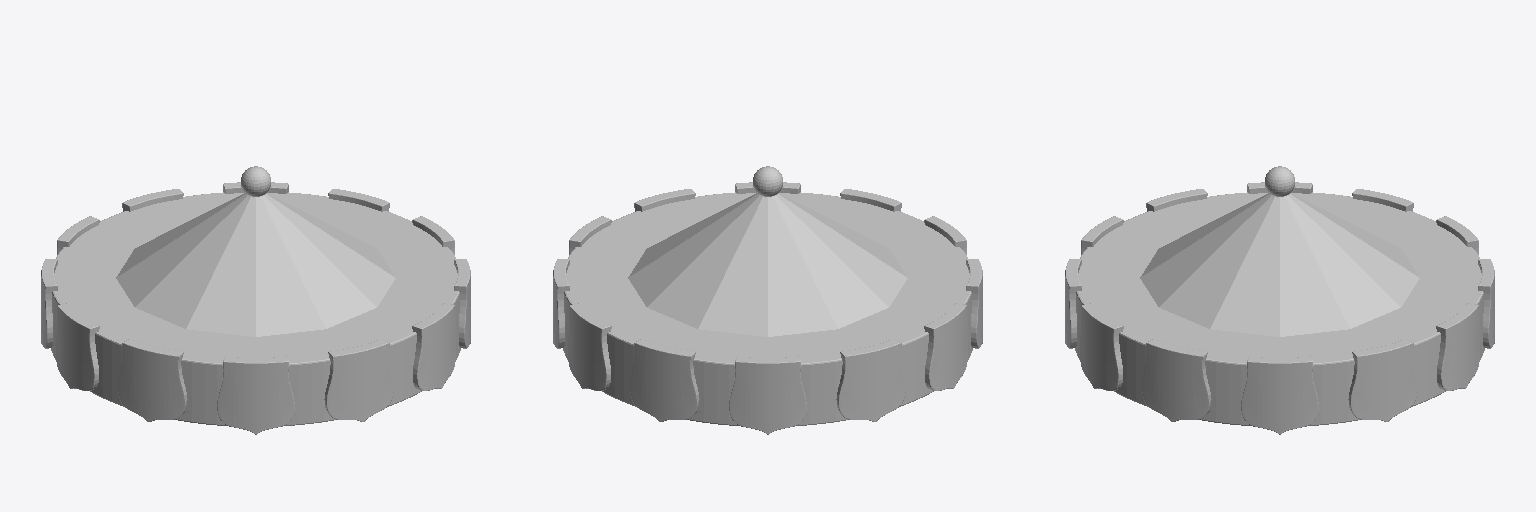
File: 07_techo.obj
3 views of the same model, side by side, from view 1: azimuth 30°, elevation 25°; view 2: azimuth 150°, elevation 25°; view 3: azimuth 270°, elevation 25° (orthographic).
Visible parts, largest first — view 1: 16818_carousel_v1.003; view 2: 16818_carousel_v1.003; view 3: 16818_carousel_v1.003.
Part boxes in pixels (bbox=[...]): 16818_carousel_v1.003: bbox=[41, 166, 470, 434]; 16818_carousel_v1.003: bbox=[553, 166, 982, 434]; 16818_carousel_v1.003: bbox=[1065, 166, 1494, 434].
Bounding box in the file's own units: 5.16 × 2.34 × 5.16.